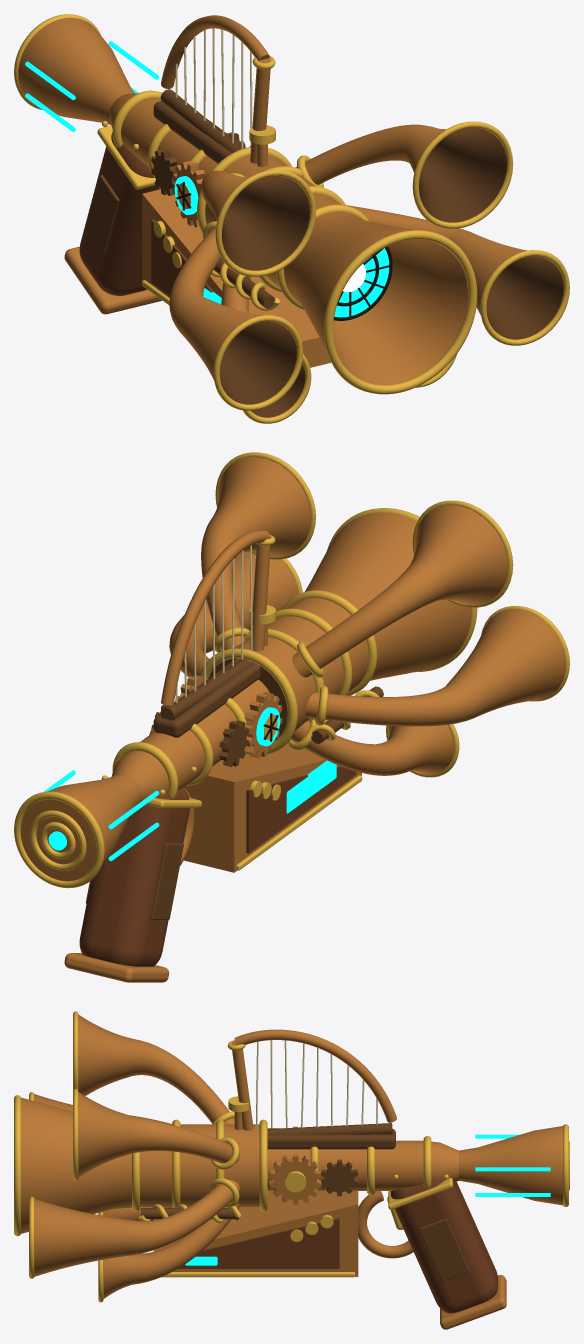
File: Arpa_Emisora.glb
3 views of the same model, one above another, from view 1: azimuth 30°, elevation 25°; view 2: azimuth 150°, elevation 25°; view 3: azimuth 270°, elevation 25° (orthographic). The views are drawn at different scales.
Parts seen in each view (by area): view 1: Barrel_Main, Culata, Horn1_Inner, Horn2_Inner, Grip, Horn3, Horn4_Inner, Horn3_Inner, Resonance_Chamber, Barrel_BellLip, Horn1, Horn4 (+29 smaller); view 2: Barrel_Main, Horn3, Horn2, Grip, Horn1, Resonance_Chamber, Culata, Horn5, Barrel_Rear, Horn4, Resonance_Wood_R, Harp_Neck (+22 smaller); view 3: Barrel_Main, Horn4, Grip, Horn2, Horn1, Resonance_Chamber, Culata, Barrel_Rear, Resonance_Wood_L, Horn6, Harp_Neck, Harp_Mount (+22 smaller).
Part boxes in pixels (x1=…): Barrel_Main: x1=205, y1=155, x2=467, y2=385; Culata: x1=18, y1=17, x2=134, y2=125; Horn1_Inner: x1=419, y1=127, x2=506, y2=222; Horn2_Inner: x1=222, y1=176, x2=309, y2=270; Grip: x1=79, y1=132, x2=159, y2=295; Horn3: x1=169, y1=229, x2=261, y2=379; Horn4_Inner: x1=486, y1=256, x2=563, y2=339; Horn3_Inner: x1=219, y1=321, x2=296, y2=404; Resonance_Chamber: x1=142, y1=189, x2=331, y2=367; Barrel_BellLip: x1=323, y1=230, x2=477, y2=394; Horn1: x1=295, y1=124, x2=445, y2=184; Horn4: x1=346, y1=205, x2=526, y2=315; Barrel_Main: x1=234, y1=512, x2=471, y2=731; Horn3: x1=305, y1=609, x2=565, y2=726; Horn2: x1=292, y1=505, x2=507, y2=677; Grip: x1=79, y1=788, x2=189, y2=966; Horn1: x1=201, y1=457, x2=310, y2=650; Resonance_Chamber: x1=184, y1=742, x2=361, y2=872; Culata: x1=20, y1=773, x2=141, y2=881; Horn5: x1=290, y1=721, x2=454, y2=775; Barrel_Rear: x1=111, y1=679, x2=269, y2=801; Horn4: x1=169, y1=552, x2=298, y2=677; Resonance_Wood_R: x1=246, y1=766, x2=356, y2=853; Harp_Neck: x1=161, y1=530, x2=269, y2=705; Barrel_Main: x1=21, y1=1097, x2=259, y2=1233; Horn4: x1=34, y1=1180, x2=240, y2=1276; Grip: x1=390, y1=1180, x2=497, y2=1313; Horn2: x1=78, y1=1014, x2=234, y2=1124; Horn1: x1=78, y1=1092, x2=240, y2=1177; Resonance_Chamber: x1=153, y1=1191, x2=358, y2=1276; Culata: x1=459, y1=1126, x2=562, y2=1205; Barrel_Rear: x1=267, y1=1140, x2=458, y2=1190; Resonance_Wood_L: x1=178, y1=1218, x2=339, y2=1268; Horn6: x1=103, y1=1203, x2=239, y2=1298; Harp_Neck: x1=234, y1=1029, x2=396, y2=1122; Harp_Mount: x1=267, y1=1128, x2=395, y2=1149.
Bounding box in the file's own units: 0.2628 × 0.2529 × 0.4426.
